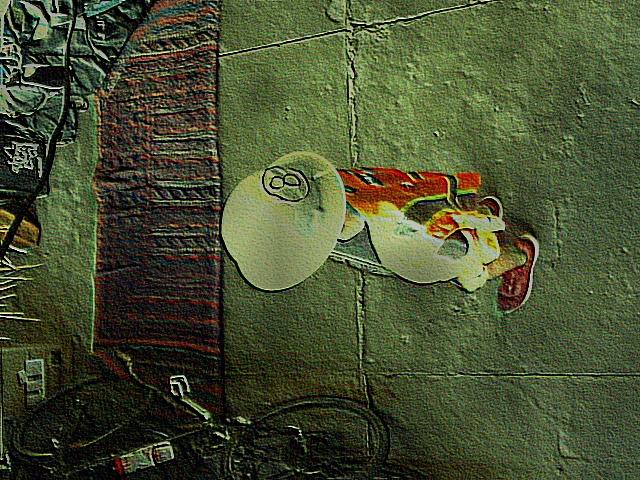eight: (263, 166, 308, 202)
